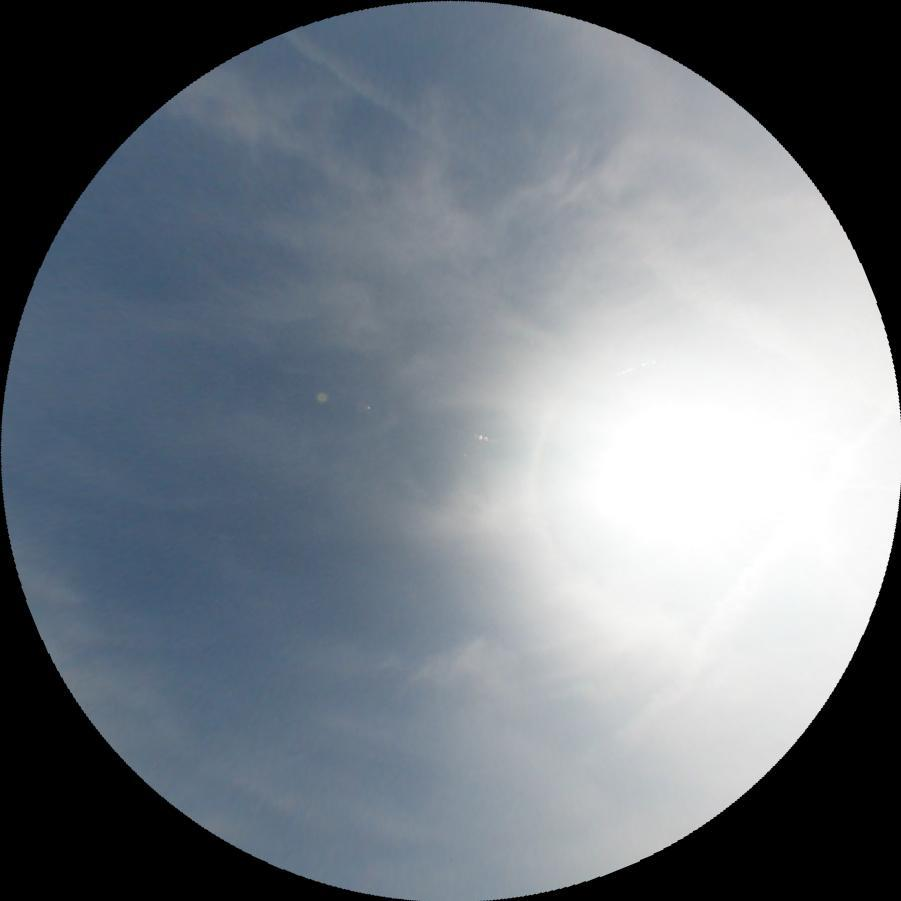sun: (593, 362, 832, 556)
